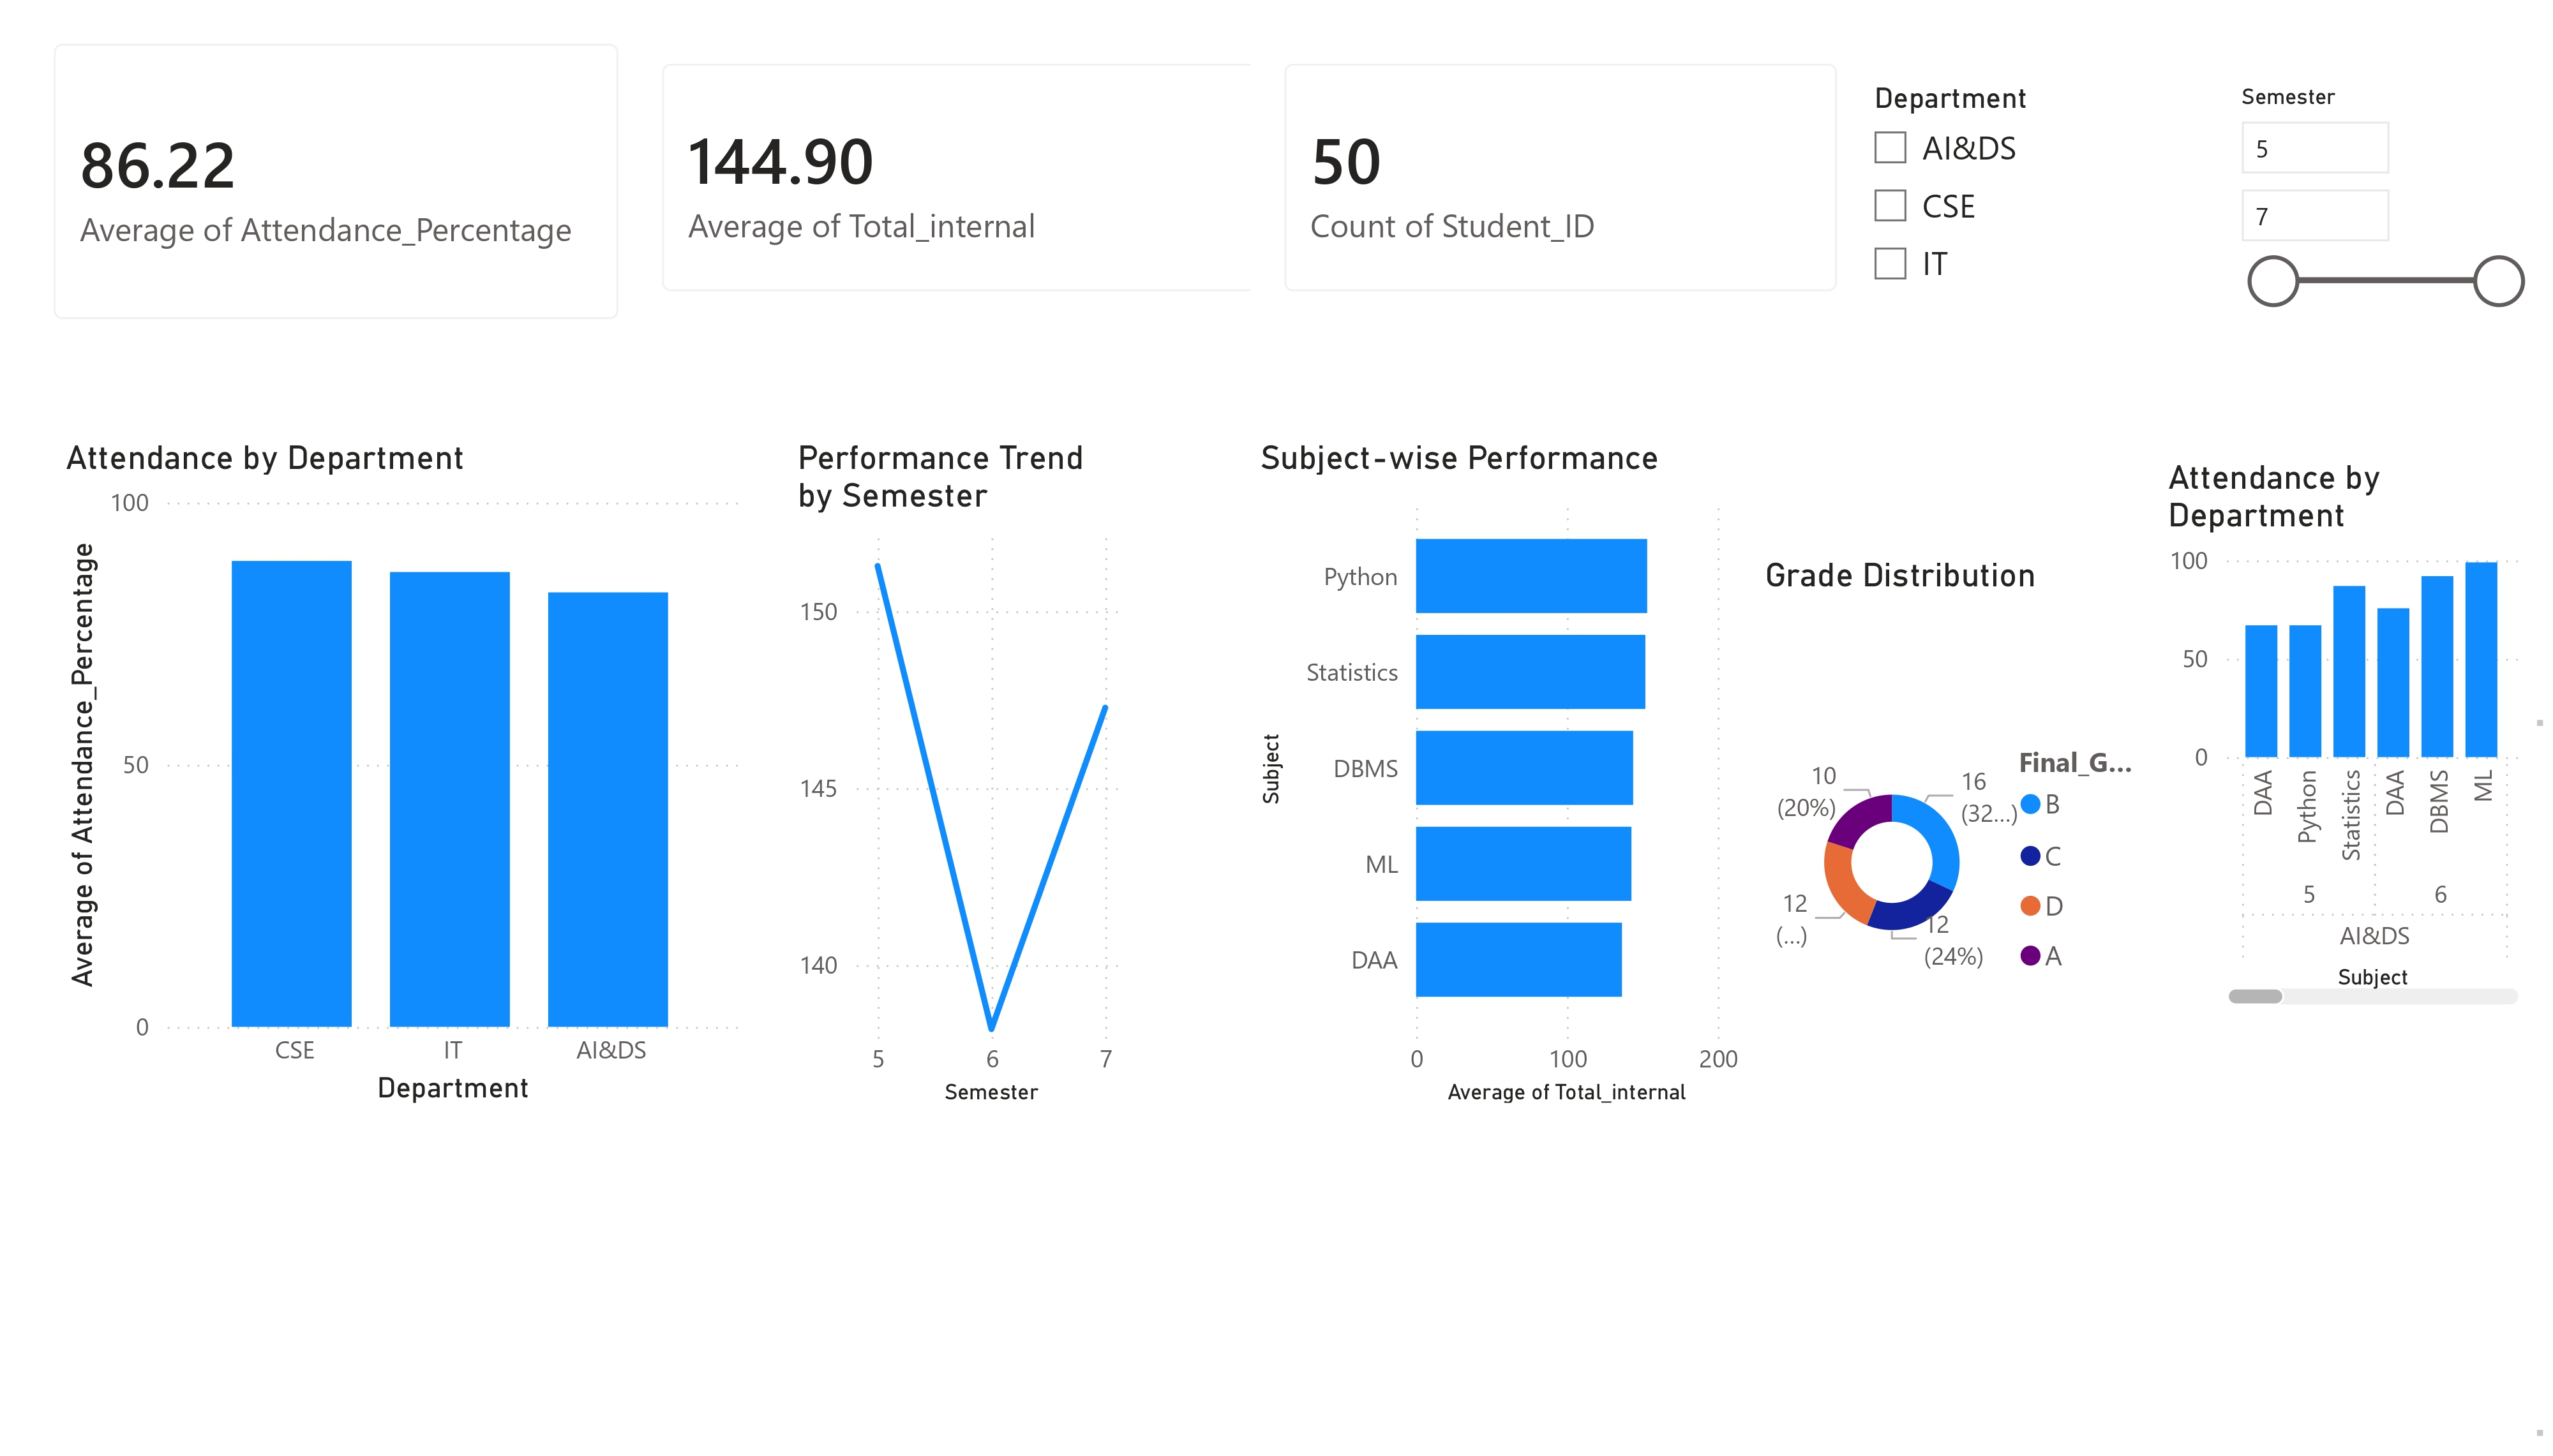

The page's visual inventory and layout, read from the dashboard file:
{"tool":"powerbi","page":{"name":"Page 1","canvas":[1280,720],"ordinal":0},"visuals":[{"type":"cardVisual","fields":{"Data":["Avg(5 student_performance 1.Attendance_Percentage)"]},"box":[10.2,0,317.8,172.9],"z":0},{"type":"cardVisual","fields":{"Data":["Avg(5 student_performance 1.Total_internal)"]},"box":[315.2,10.2,335.6,148.7],"z":1000},{"type":"cardVisual","fields":{"Data":["CountNonNull(5 student_performance 1.Student_ID)"]},"box":[626.6,10.2,311.4,148.7],"z":2000},{"type":"slicer","fields":{"Values":["5 student_performance 1.Department"]},"box":[926.6,30.5,171.6,142.4],"z":3000},{"type":"slicer","fields":{"Values":["5 student_performance 1.Semester"]},"box":[1110.9,31.8,162.7,127.1],"z":4000},{"type":"clusteredColumnChart","title":"Attendance by Department","fields":{"Category":["5 student_performance 1.Department"],"Y":["Avg(5 student_performance 1.Attendance_Percentage)"]},"box":[28,213.6,347,339.4],"z":5000},{"type":"lineChart","title":"Performance Trend by Semester","fields":{"Category":["5 student_performance 1.Semester"],"Y":["Avg(5 student_performance 1.Total_internal)"]},"box":[395.3,213.6,174.1,339.4],"z":6000},{"type":"barChart","title":"Subject-wise Performance","fields":{"Category":["5 student_performance 1.Subject"],"Y":["Avg(5 student_performance 1.Total_internal)"]},"box":[626.6,213.6,249.1,339.4],"z":7000},{"type":"donutChart","title":"Grade Distribution","fields":{"Category":["5 student_performance 1.Final_Grade"],"Y":["CountNonNull(5 student_performance 1.Subject)"]},"box":[879.6,273.3,202.1,289.8],"z":7001},{"type":"clusteredColumnChart","title":"Attendance by Department","fields":{"Y":["Avg(5 student_performance 1.Attendance_Percentage)"],"Category":["5 student_performance 1.Department","5 student_performance 1.Semester","5 student_performance 1.Subject"]},"box":[1081.7,223.7,185.6,279.6],"z":7002},{"type":"textbox","box":[1267.3,350.8,12.7,12.7],"z":7003},{"type":"textbox","box":[1267.3,706.7,12.7,12.7],"z":7004}]}

Visuals, with their boxes in screenshot pixels (x1, y1, x2, y2), scaled from the page's 1280x720 canvas onto the 2553x1456 screenshot:
cardVisual - Avg(5 student_performance 1.Attendance_Percentage): (20, 0, 654, 350)
cardVisual - Avg(5 student_performance 1.Total_internal): (629, 20, 1298, 322)
cardVisual - CountNonNull(5 student_performance 1.Student_ID): (1250, 20, 1871, 322)
slicer - 5 student_performance 1.Department: (1848, 62, 2190, 350)
slicer - 5 student_performance 1.Semester: (2216, 64, 2540, 322)
"Attendance by Department" clusteredColumnChart: (56, 432, 748, 1118)
"Performance Trend by Semester" lineChart: (788, 432, 1135, 1118)
"Subject-wise Performance" barChart: (1250, 432, 1747, 1118)
"Grade Distribution" donutChart: (1755, 553, 2157, 1139)
"Attendance by Department" clusteredColumnChart: (2157, 452, 2527, 1018)
textbox: (2527, 709, 2552, 735)
textbox: (2527, 1429, 2552, 1455)
